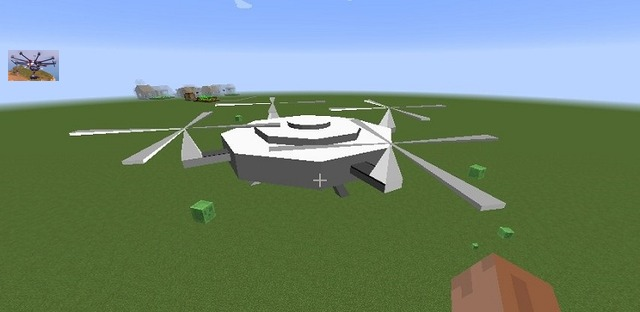drone: (67, 95, 508, 211), (8, 50, 59, 81)
